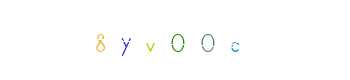0: (137, 0, 217, 80), (148, 0, 228, 80)
8: (76, 0, 156, 80)
C: (158, 0, 238, 80)
V: (135, 0, 215, 80)
Y: (122, 0, 202, 80)
